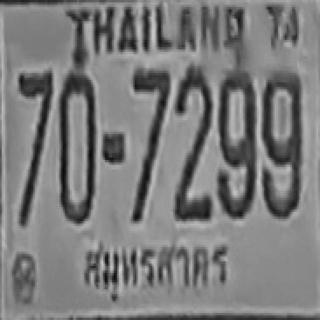N00: (58, 70, 94, 222)
N02: (173, 66, 212, 193), (173, 95, 212, 218)
N07: (131, 67, 170, 168), (131, 67, 170, 152)
N09: (261, 69, 301, 218), (216, 69, 254, 218)
P58: (74, 232, 236, 308)
